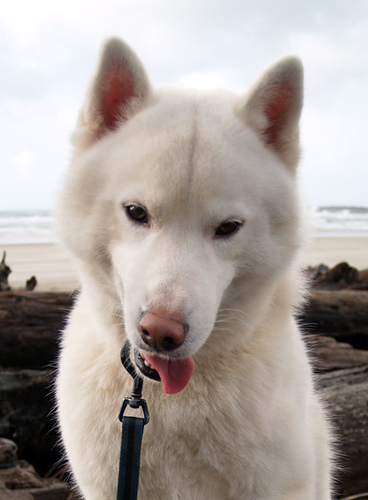dog: (57, 37, 332, 498)
